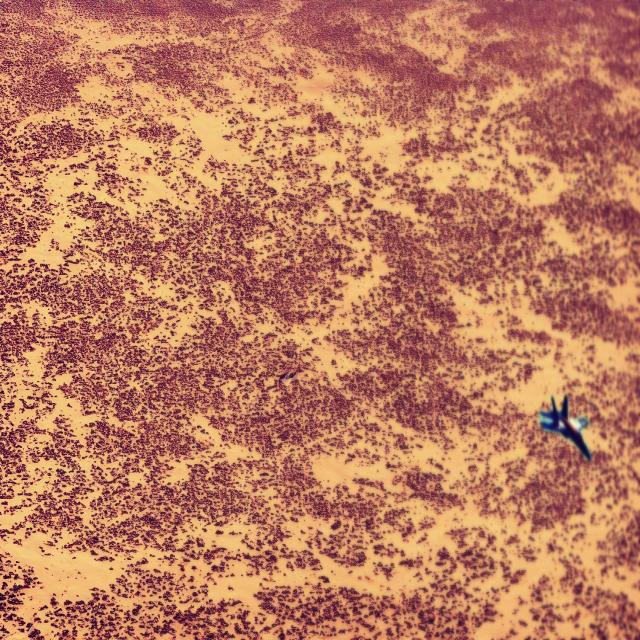airplane: (538, 394, 592, 462)
